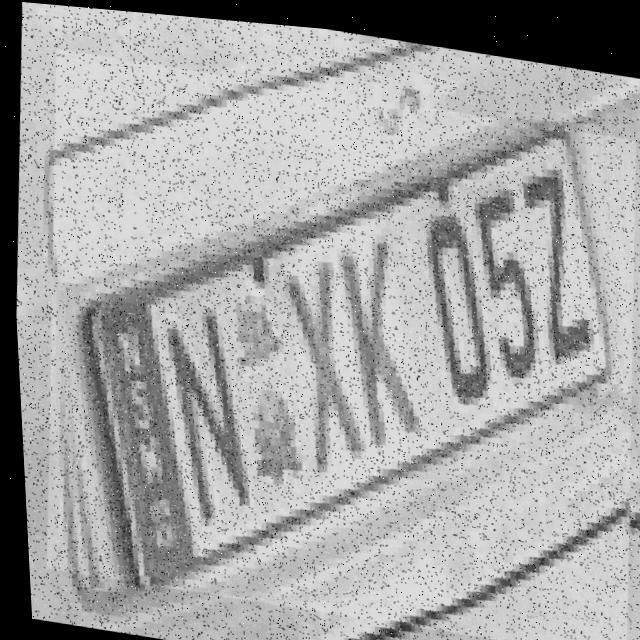LicensePlate: (19, 46, 640, 640)
